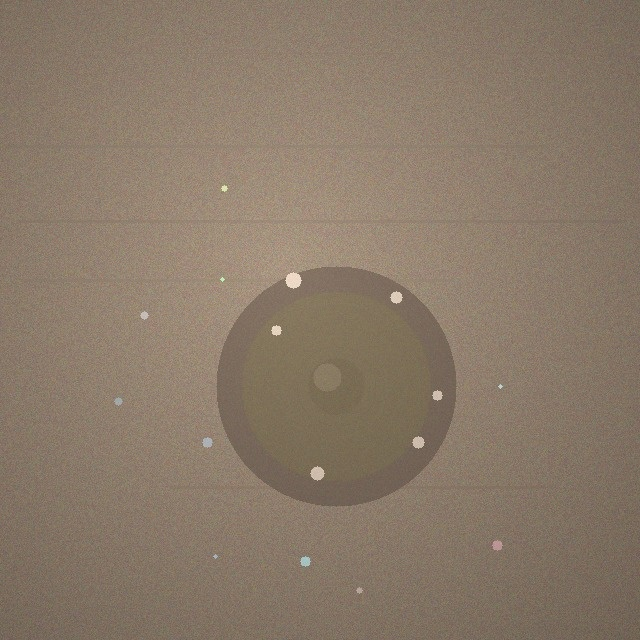overburn: (216, 266, 456, 506)
